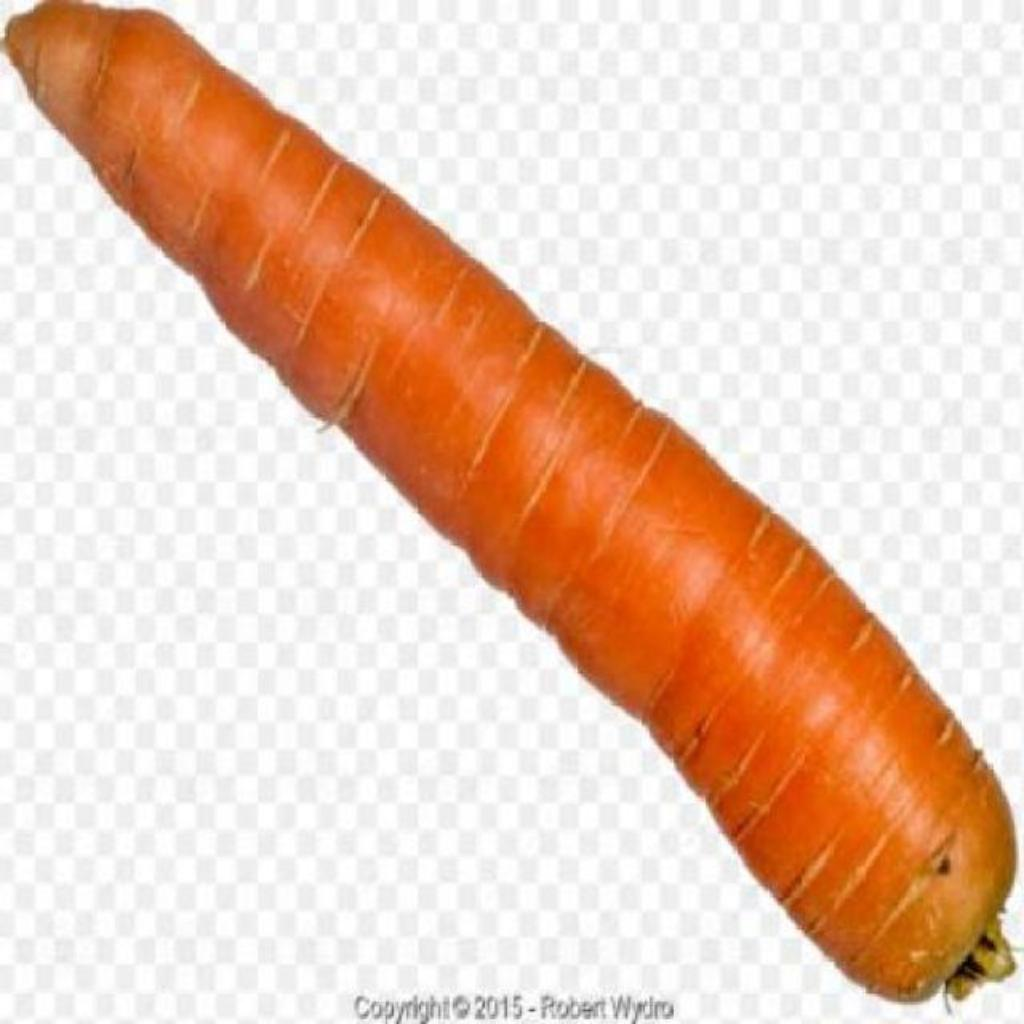carrot: (6, 2, 1014, 999)
